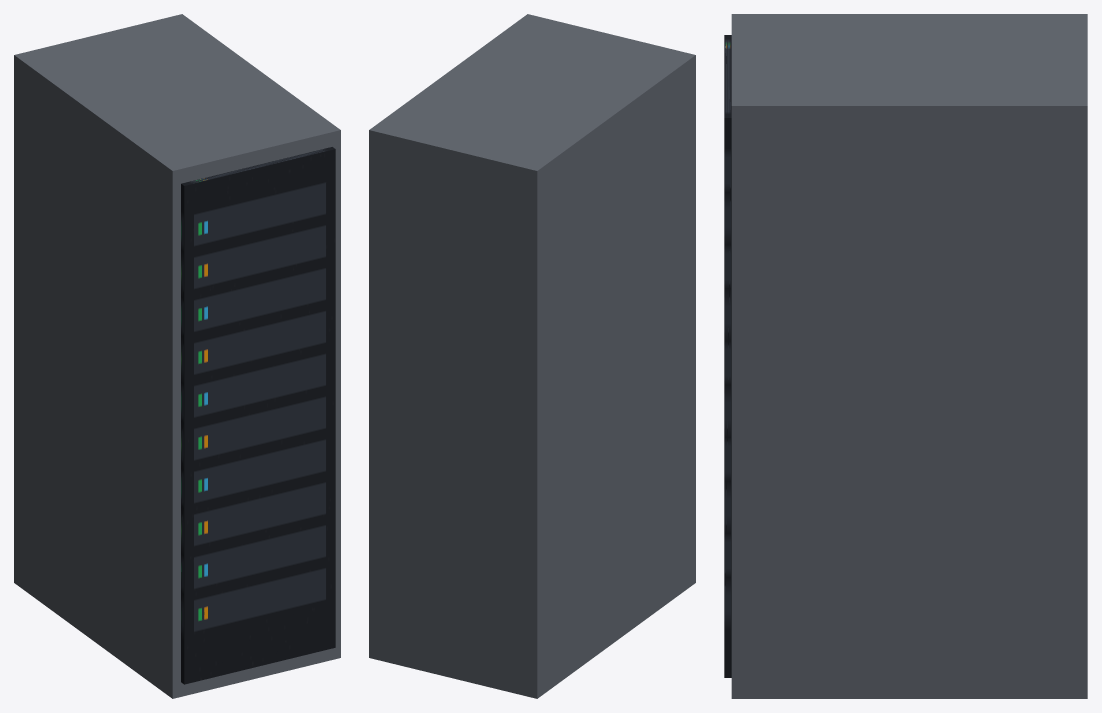
File: server_rack.glb
The picture shows the model from 3 angles, left to right: view 1: azimuth 30°, elevation 25°; view 2: azimuth 150°, elevation 25°; view 3: azimuth 270°, elevation 25°; orthographic projection. The views are drawn at different scales.
Parts seen in each view (by area): view 1: server_rack; view 2: server_rack; view 3: server_rack.
Part boxes in pixels (x1=…): server_rack: x1=14, y1=14, x2=340, y2=698; server_rack: x1=369, y1=14, x2=695, y2=698; server_rack: x1=724, y1=14, x2=1087, y2=698.
Size of the model in its own units: 0.6 by 1.8 by 1.
2 materials, 1 textured.
